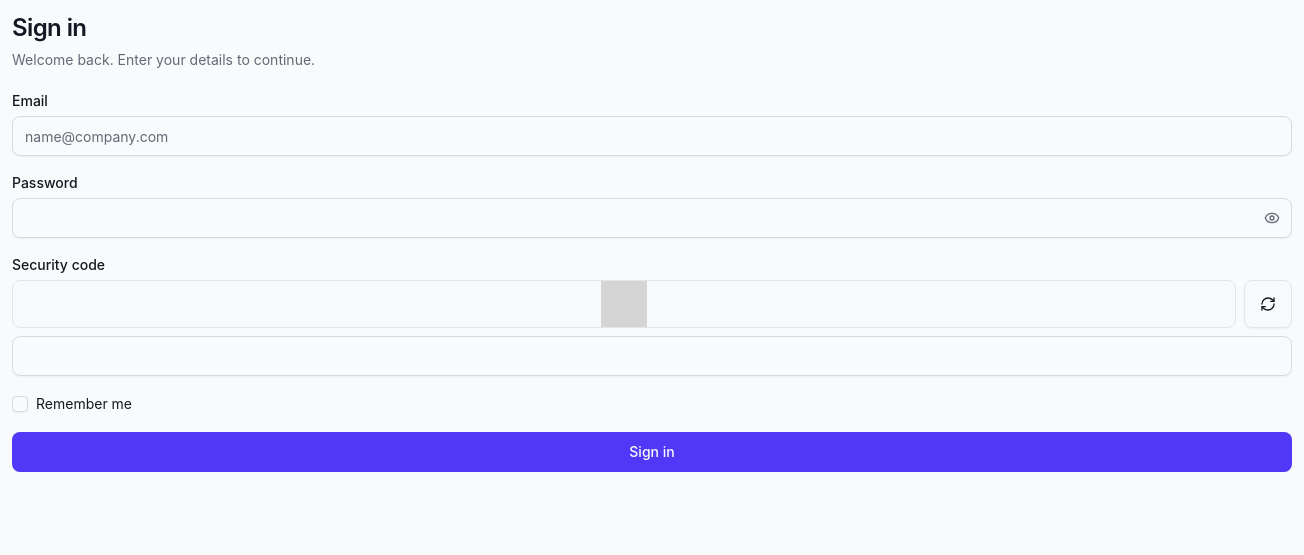
Scenario: SignInForm › says when the email and password do not match an account, and offers a fresh captcha
In the field labelled "Email": (652, 136) [12,116,1292,156], type "ada@example.com"
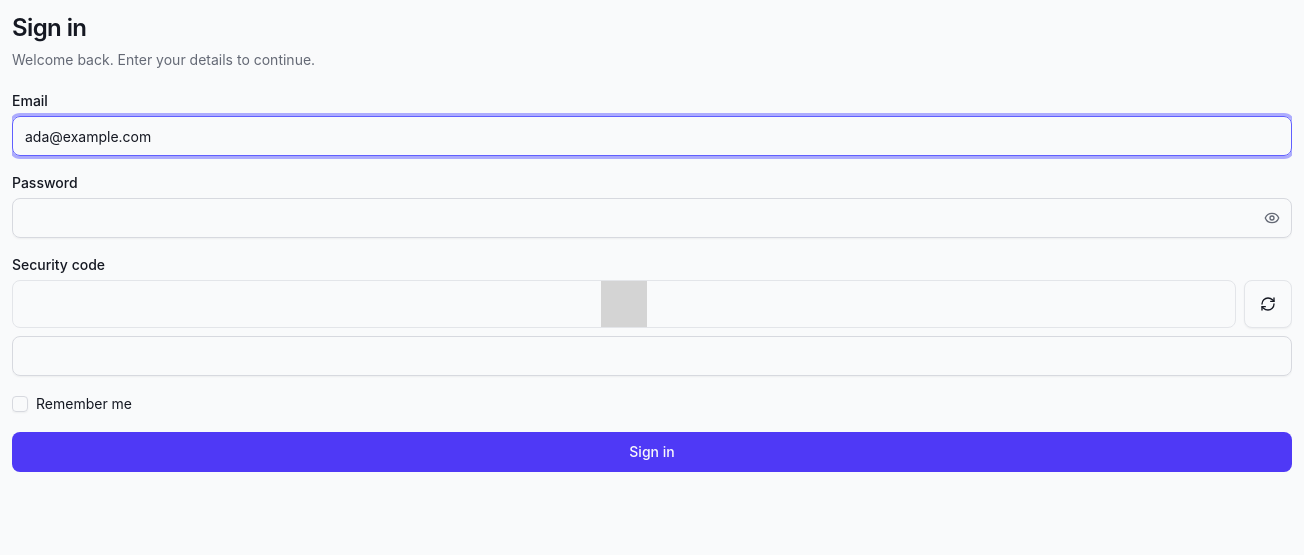
In the password field labelled "Password": (652, 218) [12,198,1292,238], type "password123"
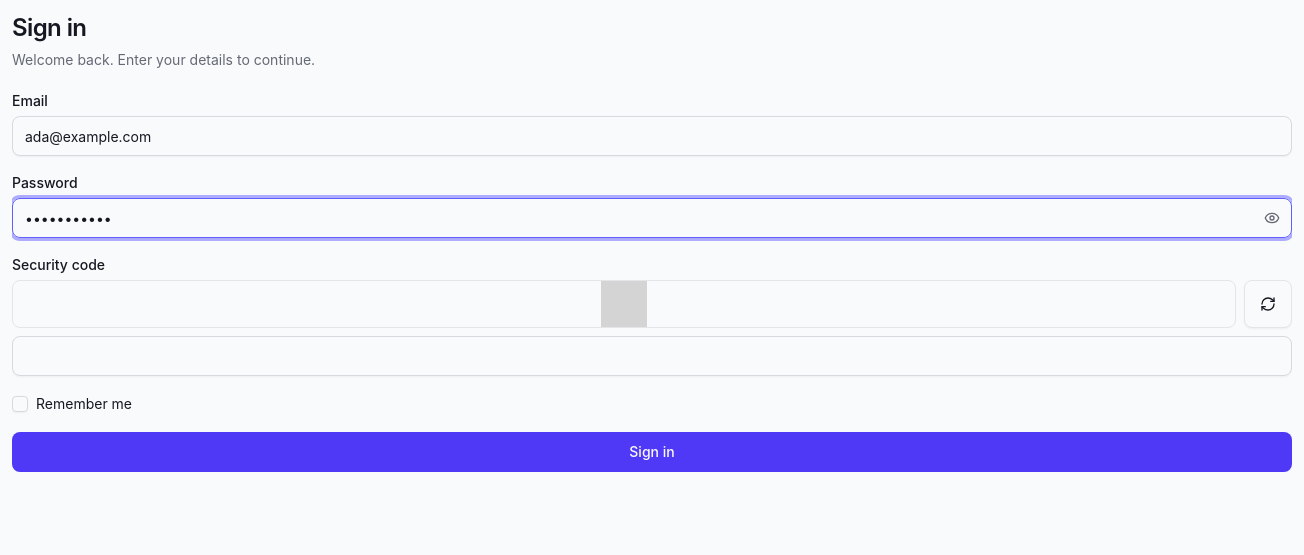
In the field labelled "Security code": (652, 356) [12,336,1292,376], type "QZWL"
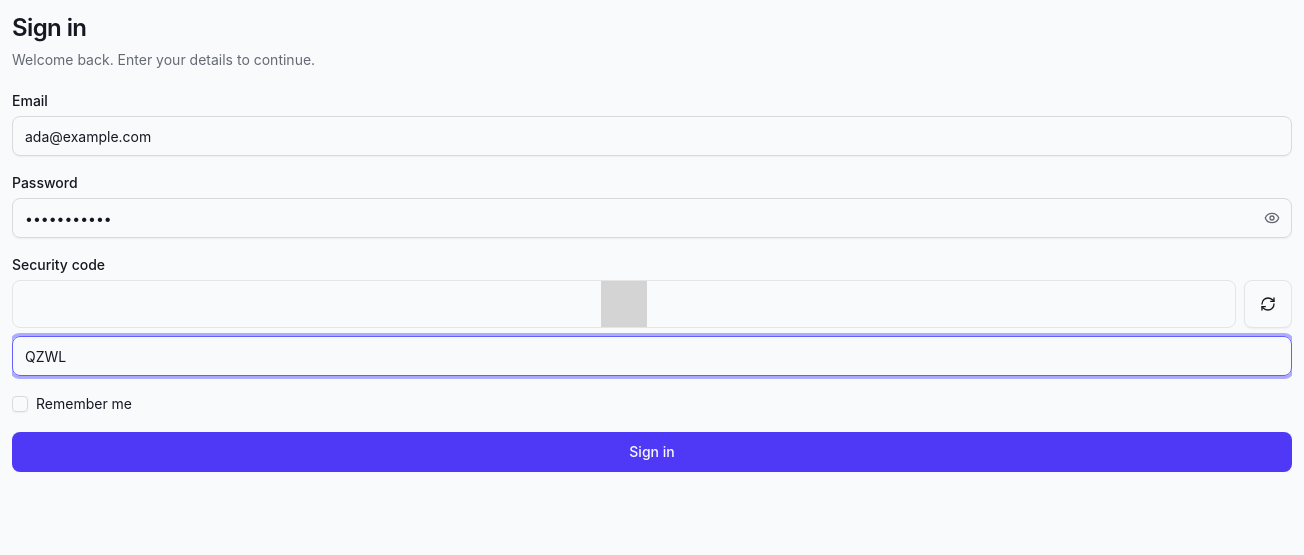
Click the button "Sign in": (652, 452) [12,432,1292,472]
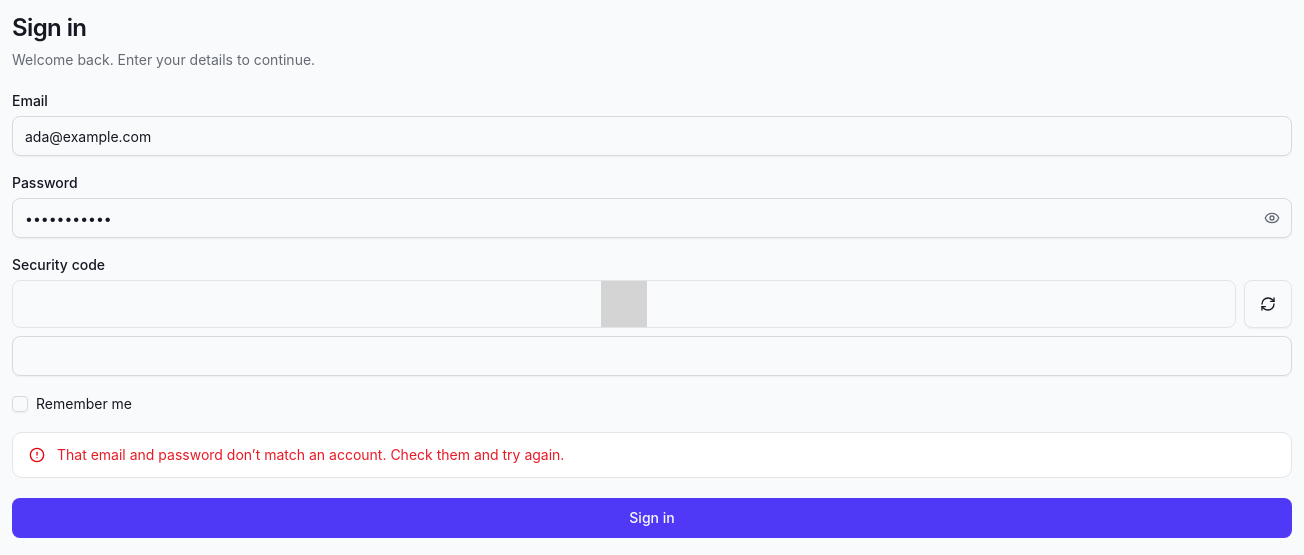
Expected: the message reads "That email and password don’t match an account. Check them and try again.", [57,446,564,463]
Expected: the field labelled "Security code" is empty, [12,336,1292,376]
